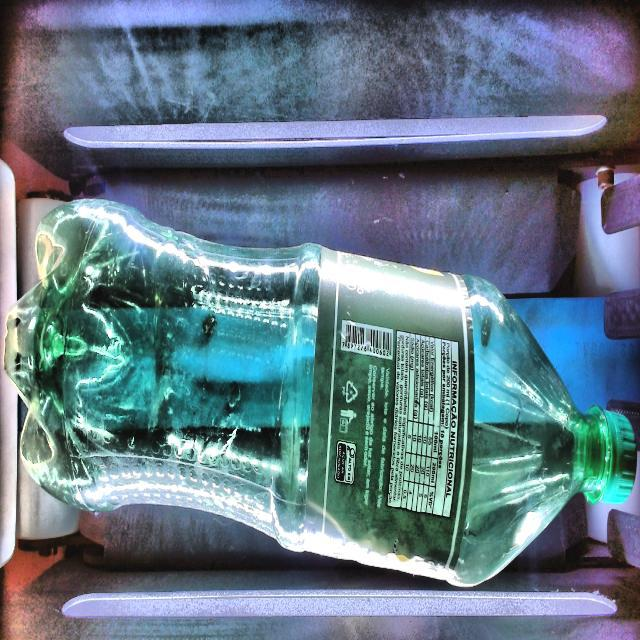bottom: (6, 200, 320, 548)
code: (341, 320, 392, 360)
label: (305, 249, 474, 573)
neck: (451, 276, 636, 587)
